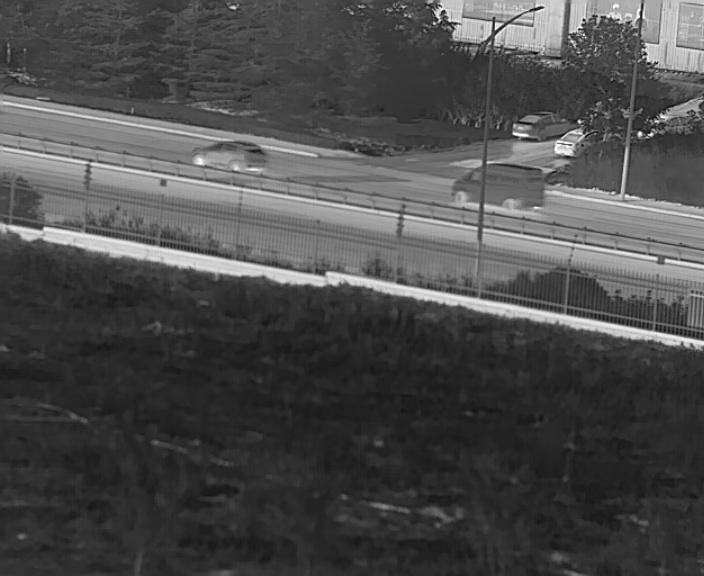vehicle: (451, 162, 544, 210), (190, 139, 268, 172), (513, 111, 559, 140), (555, 126, 582, 157)
